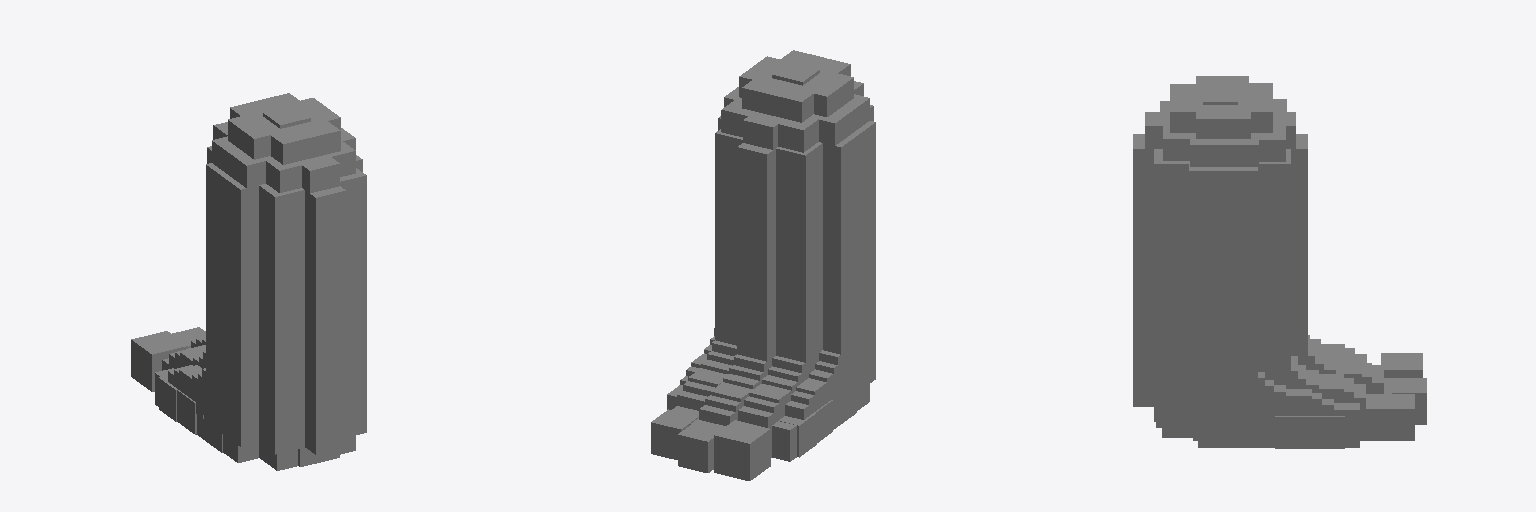
Rendered from pierna_Der.obj.
3 renders of one model, left to right at view 1: azimuth 30°, elevation 25°; view 2: azimuth 150°, elevation 25°; view 3: azimuth 270°, elevation 25°, orthographic.
Visible parts, largest first — view 1: Box2581; view 2: Box2581; view 3: Box2581.
Part boxes in pixels (x1,y1,x2,y2): Box2581: (131, 93, 366, 470); Box2581: (651, 50, 875, 480); Box2581: (1133, 76, 1426, 448).
Size of the model in its own units: 0.8358 by 2.01 by 1.65.